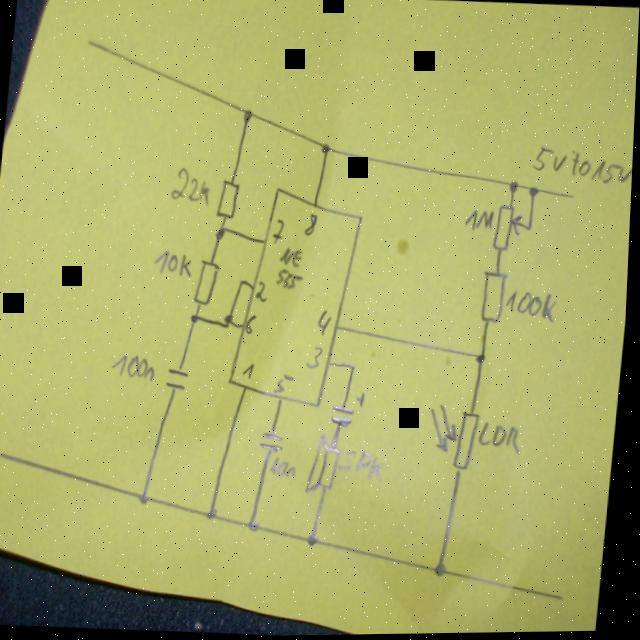capacitor: (332, 390, 369, 429), (167, 364, 193, 394), (261, 429, 288, 454)
junction: (437, 561, 453, 578), (309, 532, 324, 548), (249, 518, 264, 533), (242, 107, 254, 124), (224, 312, 236, 329), (141, 491, 154, 505), (508, 180, 520, 195), (215, 225, 227, 240), (528, 186, 541, 199), (209, 507, 222, 520), (476, 352, 489, 365), (320, 142, 332, 156), (192, 312, 202, 324), (239, 277, 248, 288), (352, 362, 358, 371)
resistor: (426, 402, 485, 475), (492, 202, 537, 255), (480, 268, 509, 327), (194, 258, 222, 307), (216, 179, 242, 220)
terminal: (0, 447, 13, 462), (84, 35, 96, 48), (560, 592, 572, 603), (569, 192, 577, 201)
text: (530, 145, 635, 189), (504, 288, 561, 325), (169, 165, 215, 207), (339, 448, 390, 483), (479, 421, 527, 455), (112, 351, 160, 383), (276, 246, 308, 291), (154, 248, 196, 279), (465, 208, 496, 232), (272, 455, 301, 480), (276, 372, 297, 395), (318, 308, 334, 337), (307, 344, 325, 369), (272, 217, 286, 245), (256, 279, 271, 303), (305, 211, 319, 236), (246, 312, 259, 335), (244, 361, 257, 380)
